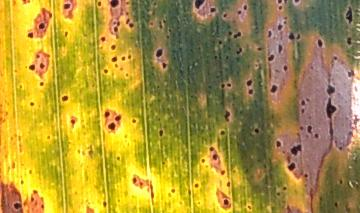tarspot: (324, 96, 337, 120), (343, 6, 356, 29), (287, 142, 305, 156), (327, 120, 337, 144), (11, 198, 25, 213), (322, 82, 337, 95), (192, 1, 208, 12), (59, 92, 72, 105), (273, 137, 284, 152), (153, 47, 165, 59), (220, 197, 233, 208), (336, 176, 347, 189), (332, 198, 341, 213), (25, 30, 37, 41), (68, 116, 79, 128), (268, 83, 279, 95), (285, 161, 297, 172), (263, 29, 275, 40), (108, 1, 121, 11), (316, 38, 326, 51), (244, 77, 255, 88), (246, 87, 257, 98), (266, 52, 277, 63), (346, 68, 357, 79), (155, 127, 167, 137), (223, 109, 231, 124), (37, 18, 46, 31), (102, 109, 113, 119), (27, 99, 37, 110), (37, 62, 48, 72), (114, 112, 124, 123), (209, 152, 219, 163), (344, 36, 354, 47), (336, 143, 346, 154), (16, 177, 27, 187), (61, 2, 73, 11), (232, 31, 244, 40), (192, 179, 201, 191), (235, 46, 244, 58), (306, 122, 314, 135), (27, 63, 37, 73), (252, 126, 262, 136), (208, 4, 218, 14), (280, 184, 290, 194), (110, 54, 119, 65), (160, 61, 169, 72), (280, 62, 289, 73), (287, 30, 296, 41), (301, 170, 312, 179), (62, 29, 71, 40), (225, 179, 233, 191), (100, 198, 109, 208), (98, 35, 108, 44), (108, 43, 118, 52), (218, 168, 227, 178), (255, 44, 265, 53), (130, 116, 139, 126), (101, 66, 111, 75), (220, 11, 230, 20), (297, 123, 307, 132), (244, 204, 254, 213), (223, 52, 232, 62), (108, 121, 116, 132), (38, 79, 46, 90), (206, 144, 217, 152), (297, 99, 308, 107), (169, 186, 177, 197), (218, 129, 227, 138), (275, 23, 284, 32), (276, 4, 286, 12), (200, 156, 208, 166), (331, 53, 339, 63), (276, 43, 283, 54), (226, 80, 233, 91), (236, 8, 243, 19), (217, 37, 224, 48), (111, 25, 119, 34), (127, 21, 135, 30), (95, 1, 104, 9), (114, 155, 123, 163), (211, 53, 220, 61), (296, 31, 303, 41), (299, 108, 307, 116), (218, 81, 225, 90), (27, 195, 36, 202), (123, 9, 130, 18), (119, 55, 126, 63), (132, 175, 137, 186), (274, 1, 284, 5), (292, 1, 301, 5)
